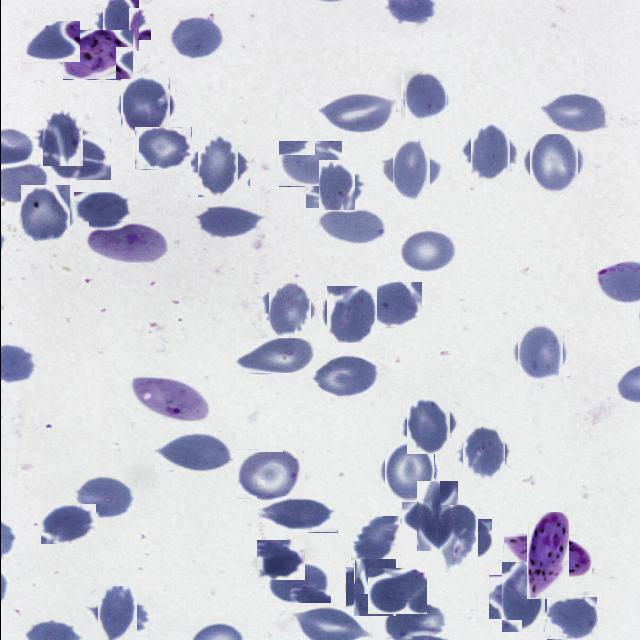red blood cell: (235, 449, 304, 500), (494, 568, 552, 625), (525, 134, 582, 191), (154, 432, 235, 472), (318, 92, 395, 134), (116, 77, 173, 133), (408, 488, 464, 544), (309, 354, 380, 398), (381, 444, 436, 500), (256, 496, 337, 533), (429, 512, 484, 566), (278, 141, 342, 187), (18, 186, 72, 240), (324, 288, 378, 342), (540, 92, 609, 134), (235, 338, 314, 374), (46, 138, 111, 181), (367, 568, 426, 614), (514, 327, 566, 379), (192, 140, 244, 192), (266, 560, 330, 602), (192, 202, 264, 239), (365, 282, 422, 328), (386, 144, 436, 196), (398, 230, 457, 274), (167, 15, 224, 60), (73, 476, 134, 518), (464, 127, 514, 177), (403, 401, 453, 451), (264, 284, 314, 334), (349, 563, 399, 613), (134, 127, 191, 170), (92, 592, 142, 640), (458, 430, 507, 478), (311, 166, 360, 214), (22, 21, 79, 62), (38, 114, 86, 162), (350, 516, 399, 563), (318, 210, 384, 244), (402, 73, 449, 120), (97, 0, 144, 47), (40, 504, 95, 544), (546, 597, 597, 640), (73, 192, 131, 229), (256, 540, 304, 579)
ring: (130, 376, 208, 422), (88, 221, 168, 265)
schizont: (514, 523, 579, 588)
trophozoite: (62, 30, 133, 80)
